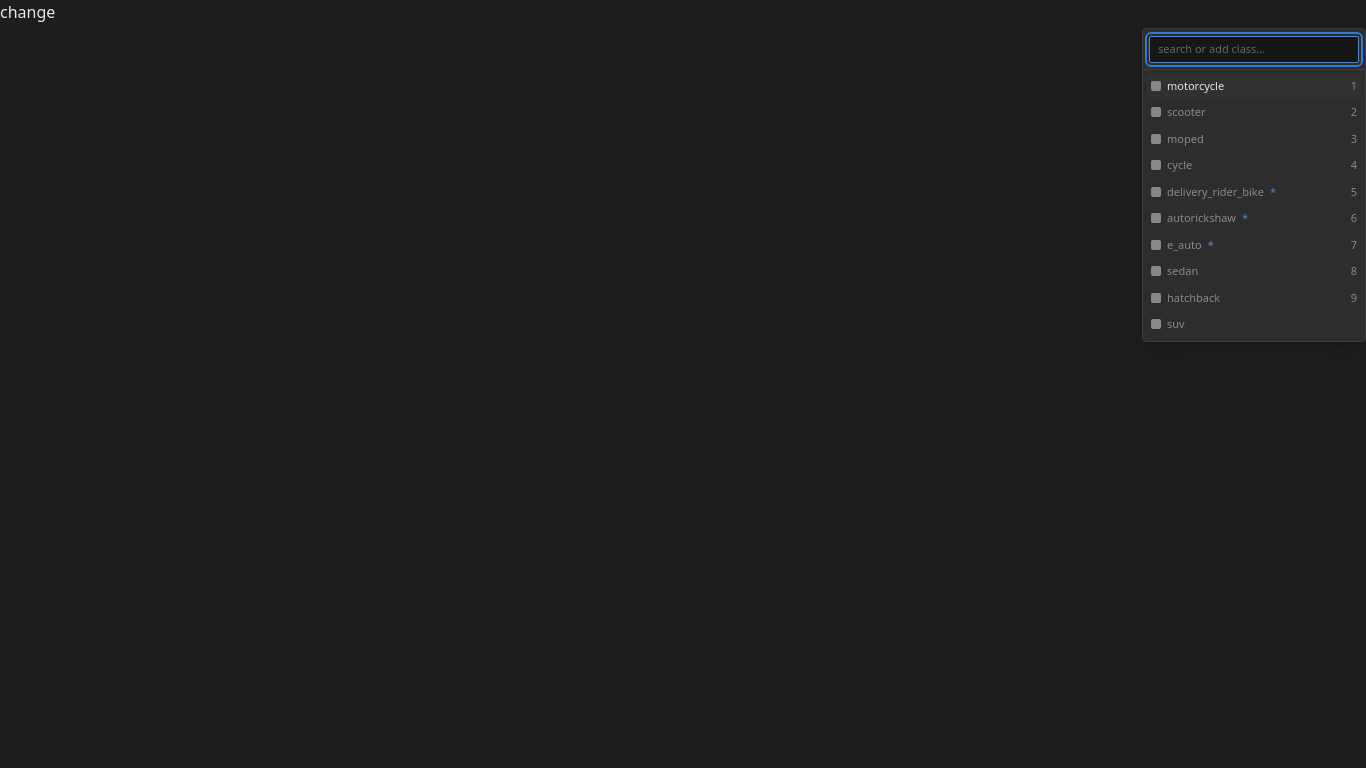
Test: picking and adding › clicking a row picks that class and closes
Step 1. Click the button "autorickshaw * 6" → click(1254, 218), box [1147,206,1361,230]
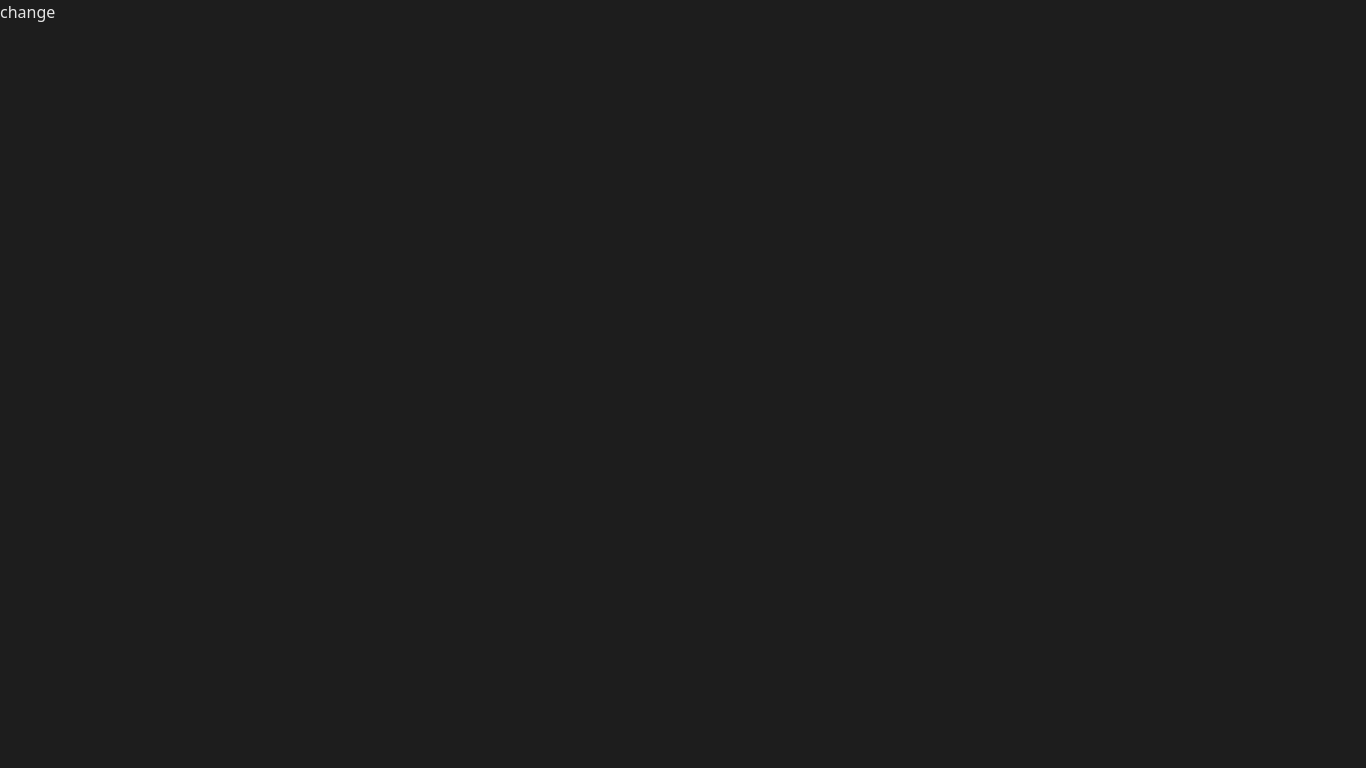
Expected: the dialog is gone
